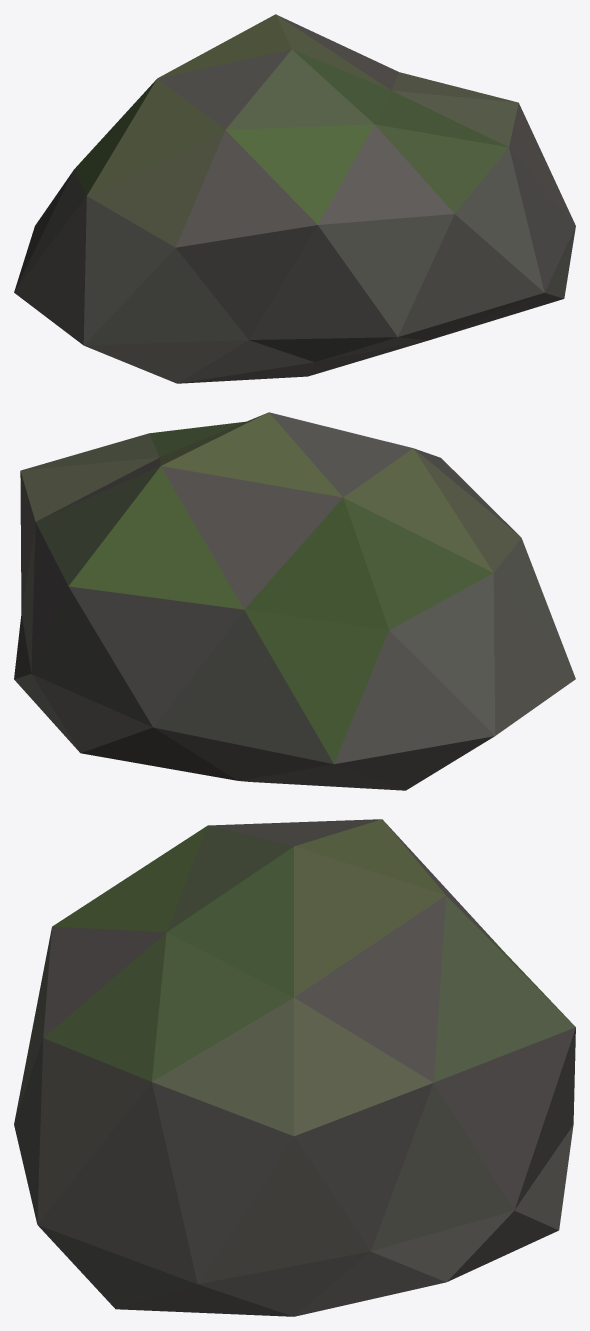
File: env_andesite_a.glb
3 views of the same model, one above another, from view 1: azimuth 30°, elevation 25°; view 2: azimuth 150°, elevation 25°; view 3: azimuth 270°, elevation 25° (orthographic). The views are drawn at different scales.
Visible parts, largest first — view 1: env_andesite_a; view 2: env_andesite_a; view 3: env_andesite_a.
Boxes of the visible parts, x1,y1,x2,y2 form: env_andesite_a: (14,14,575,383); env_andesite_a: (14,412,575,790); env_andesite_a: (14,819,575,1316).
Bounding box in the file's own units: 2.9 × 1.59 × 2.17.
